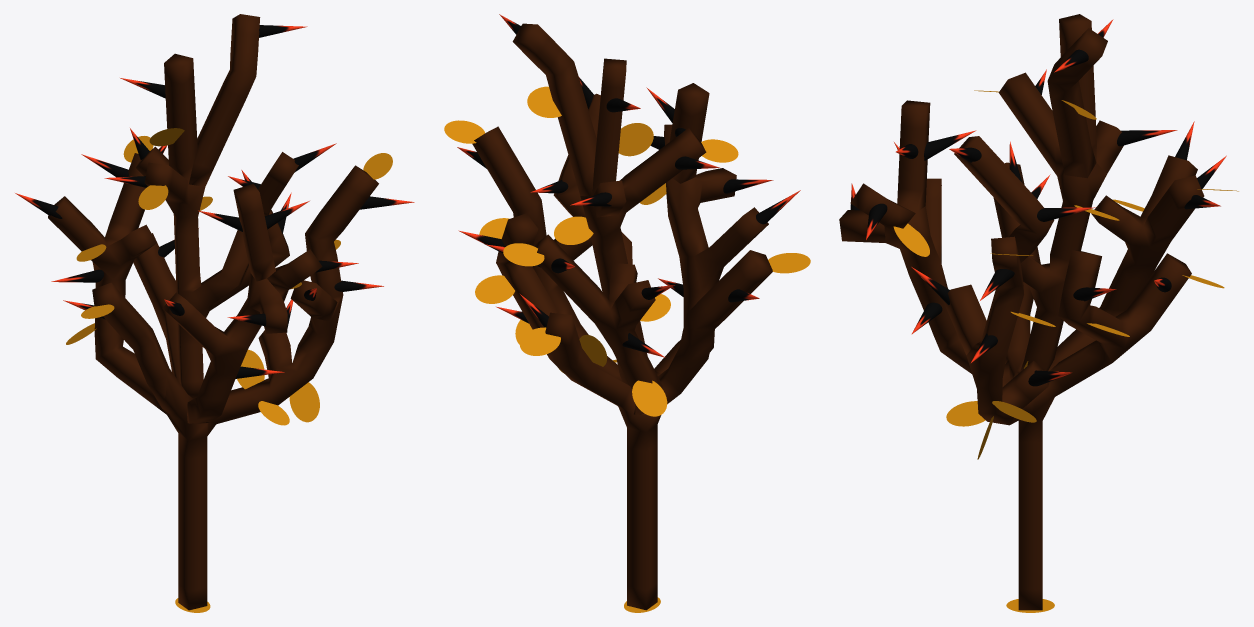
Rendered from spiky_bush_a.fbx.
3 views of the same model, side by side, from view 1: azimuth 30°, elevation 25°; view 2: azimuth 150°, elevation 25°; view 3: azimuth 270°, elevation 25° (orthographic). The views are drawn at different scales.
Parts seen in each view (by area): view 1: Plane, Circle.002, Circle.007, Circle.015, Circle.003; view 2: Plane, Circle.017, Circle.014, Circle.009, Circle.011, Circle.013, Circle.008, Circle.016, Circle.015, Circle.006, Circle.007, Circle.003; view 3: Plane, Circle.001, Circle.005.
Boxes of the visible parts, x1,y1,x2,y2 form: Plane: (48,14,378,610); Circle.002: (289,382,319,422); Circle.007: (138,185,168,209); Circle.015: (363,153,392,179); Circle.003: (237,349,264,389); Plane: (472,23,772,610); Circle.017: (632,380,667,416); Circle.014: (618,123,653,156); Circle.009: (475,275,514,303); Circle.011: (554,216,593,244); Circle.013: (520,327,560,355); Circle.008: (503,243,544,266); Circle.016: (527,86,561,117); Circle.015: (444,120,484,143); Circle.006: (768,253,810,273); Circle.007: (701,139,738,162); Circle.003: (579,334,607,366); Plane: (839,14,1204,610); Circle.001: (946,401,985,426); Circle.005: (893,223,929,256).
Bounding box in the file's own units: 103 × 162 × 95.51.
